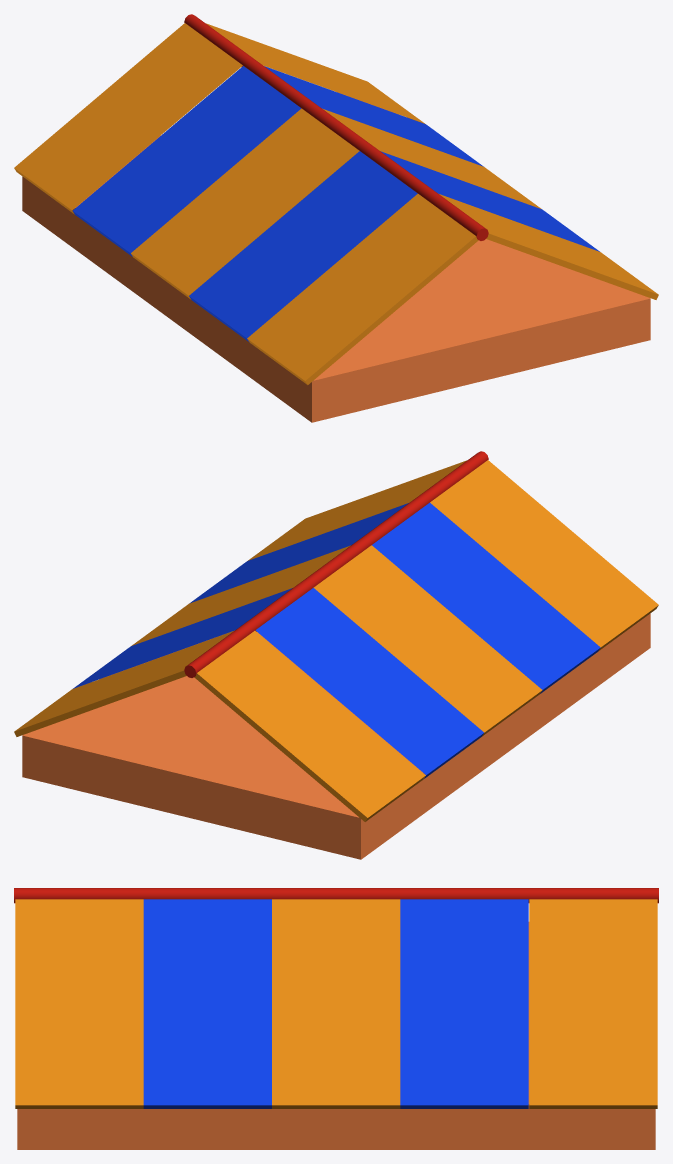
Rendered from cong America.FBX.
3 renders of one model, top to bottom at view 1: azimuth 30°, elevation 25°; view 2: azimuth 150°, elevation 25°; view 3: azimuth 270°, elevation 25°, orthographic. The views are drawn at different scales.
Parts seen in each view (by area): view 1: Box1192; view 2: Box1192; view 3: Box1192.
Part boxes in pixels (x1,y1,x2,y2): Box1192: (14, 14, 658, 422); Box1192: (14, 451, 658, 859); Box1192: (14, 888, 658, 1149).
Size of the model in its own units: 4.36 by 1.81 by 6.24.
